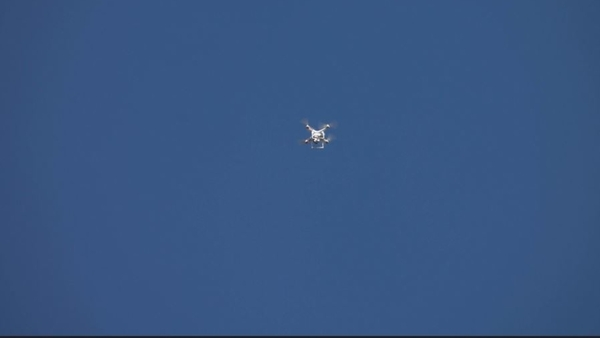drone: (298, 116, 338, 153)
